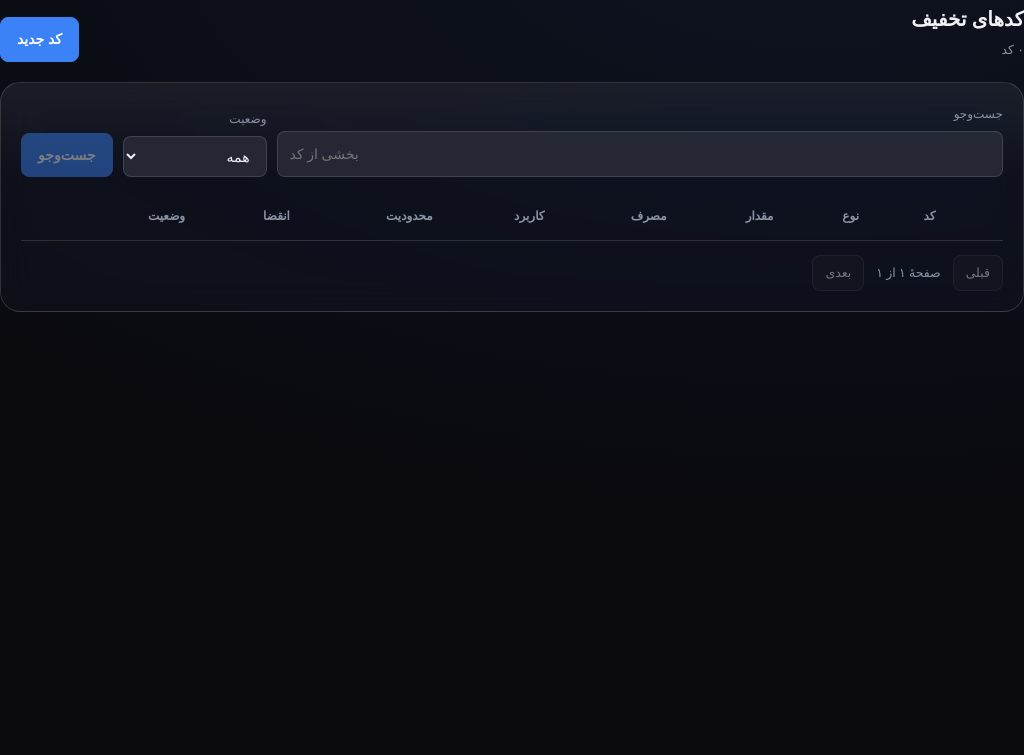
Scenario: the service list is read whole, and «ساخت» waits for it (CodeRabbit on #395) › walks every catalog page — the route caps a page at 100
Click the button "کد جدید": click(39, 40) [0,17,79,62]
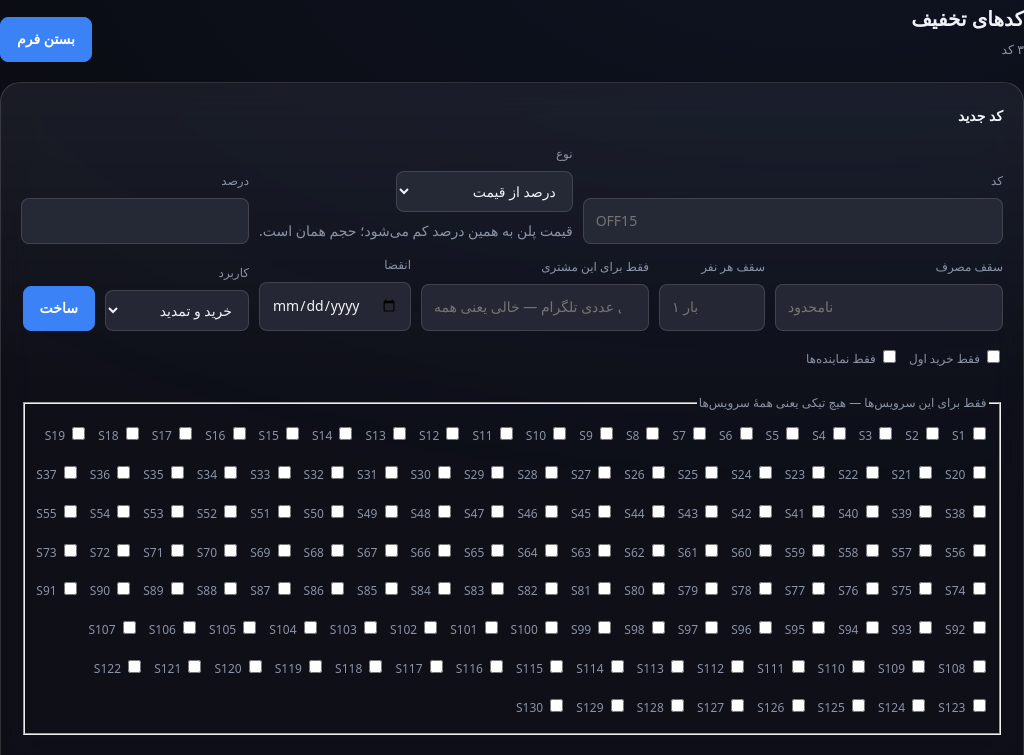
Check: the checkbox labelled "S130" is shown, box [550,699,563,712]
Check: the button "ساخت" is enabled, box [23,286,95,331]
